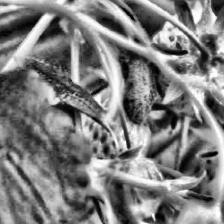Gray Mold: (114, 34, 167, 126)
